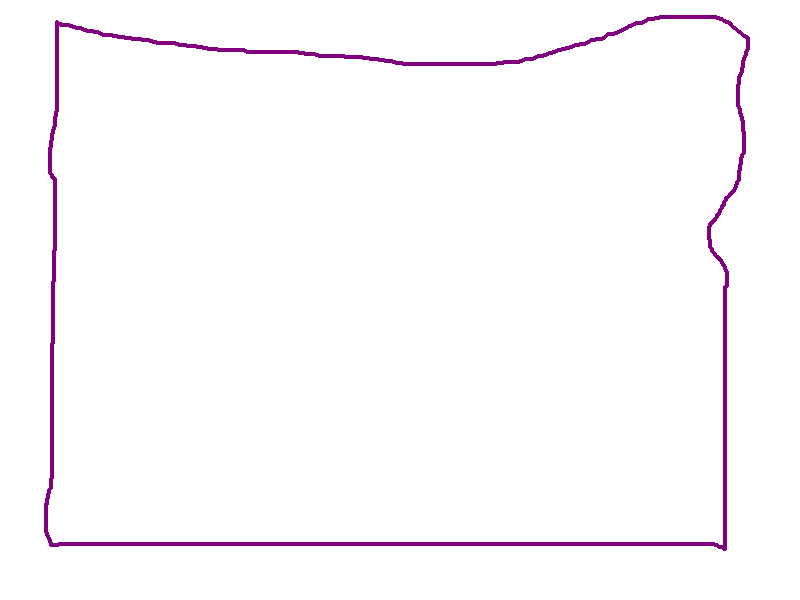rect: (39, 7, 751, 557)
